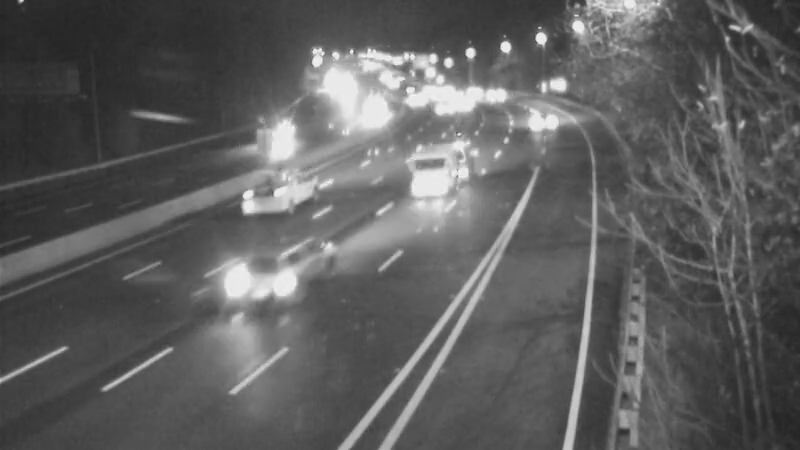vehicle: (398, 122, 478, 202), (246, 147, 326, 227), (229, 226, 309, 306), (471, 69, 521, 119), (393, 76, 443, 126), (438, 80, 488, 130), (415, 84, 465, 134), (516, 94, 566, 144), (252, 116, 302, 166)
